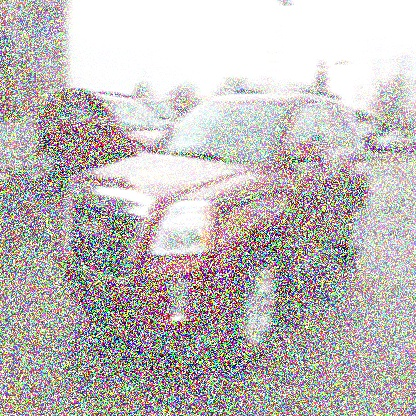Vehicle: (58, 90, 368, 366)
